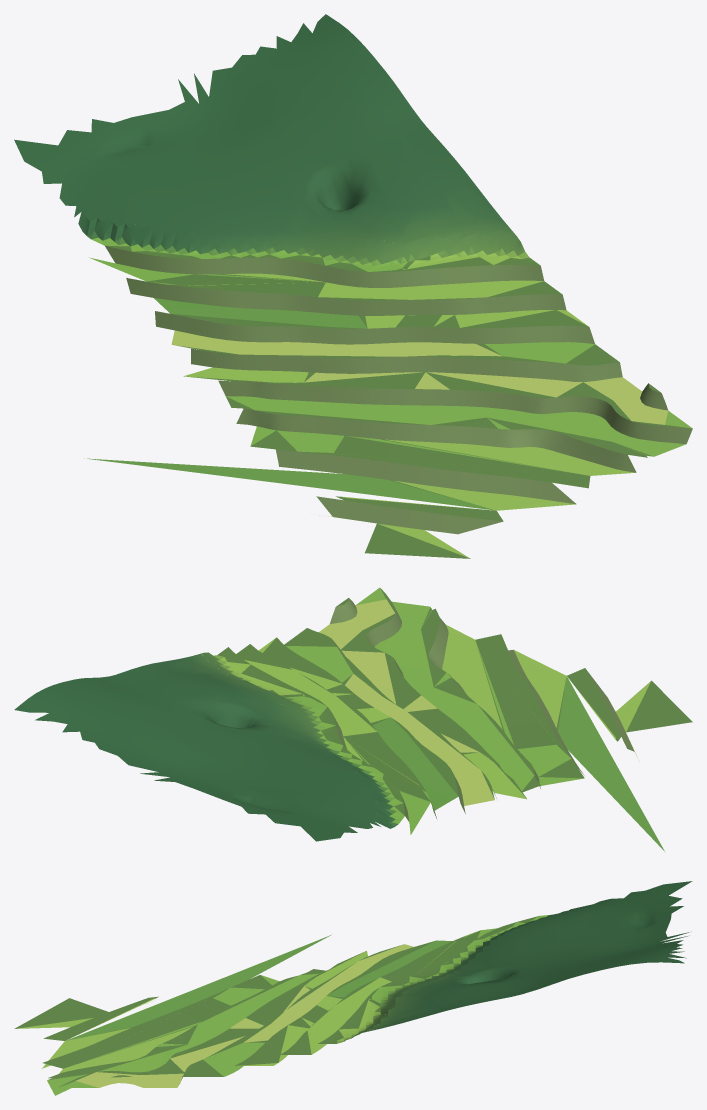
File: payo_land_xm5_y7.glb
3 renders of one model, top to bottom at view 1: azimuth 30°, elevation 25°; view 2: azimuth 150°, elevation 25°; view 3: azimuth 270°, elevation 25°, orthographic. The views are drawn at different scales.
Visible parts, largest first — view 1: payo_land_xm5_y7; view 2: payo_land_xm5_y7; view 3: payo_land_xm5_y7.
Part boxes in pixels (x1,y1,x2,y2): payo_land_xm5_y7: (14,14,692,558); payo_land_xm5_y7: (14,587,692,852); payo_land_xm5_y7: (14,881,692,1095).
Bounding box in the file's own units: 182 × 76.96 × 279.
